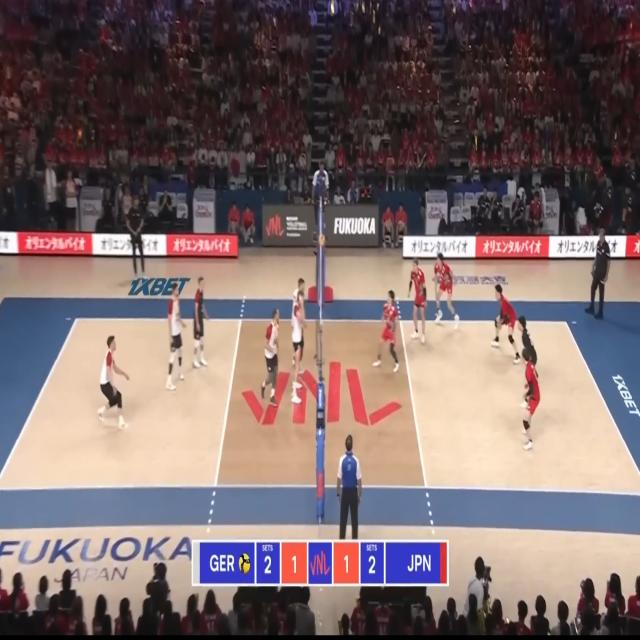ball: (319, 234, 325, 245)
